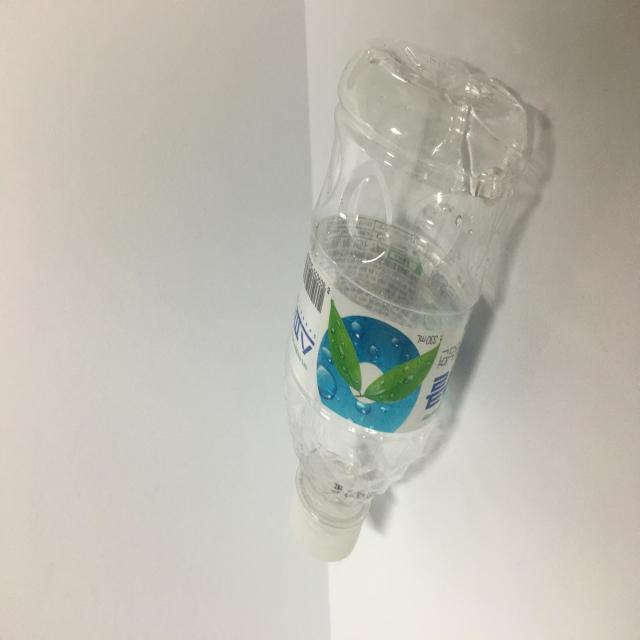bottle: (280, 31, 529, 580)
